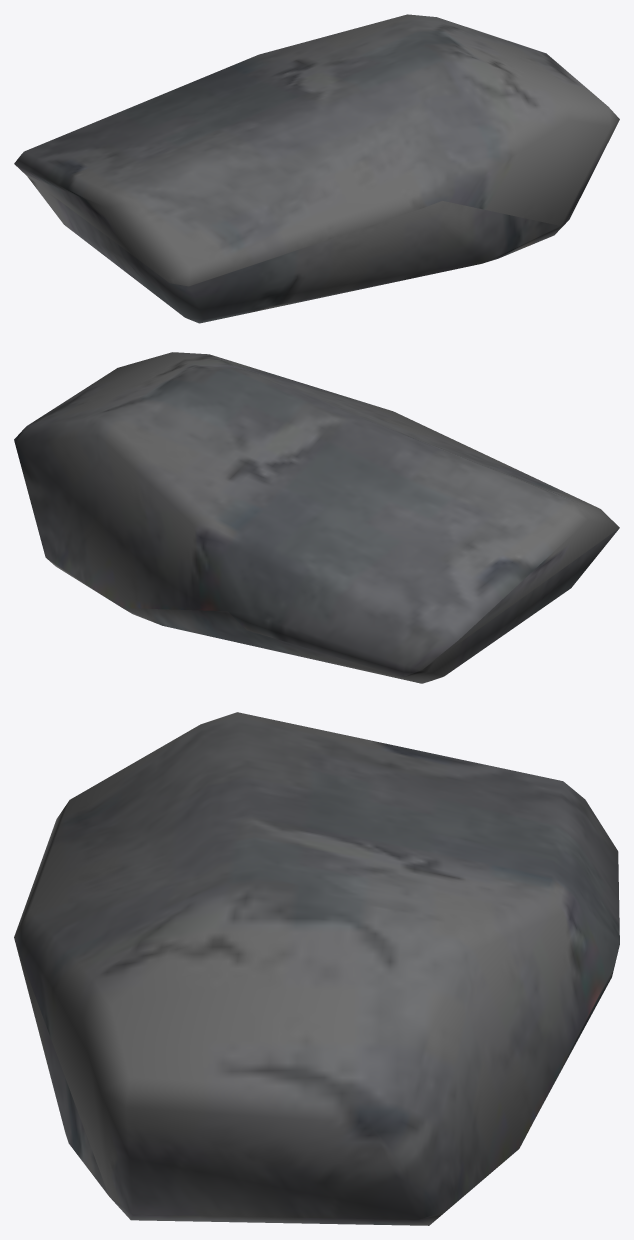
Rendered from Pedra2.fbx.
3 views of the same model, one above another, from view 1: azimuth 30°, elevation 25°; view 2: azimuth 150°, elevation 25°; view 3: azimuth 270°, elevation 25° (orthographic). The views are drawn at different scales.
Visible parts, largest first — view 1: Pedra2; view 2: Pedra2; view 3: Pedra2.
Part boxes in pixels (left/top/right/bottom): Pedra2: left=14, top=14, right=619, bottom=323; Pedra2: left=14, top=352, right=619, bottom=683; Pedra2: left=14, top=712, right=619, bottom=1225.
Size of the model in its own units: 134 by 45.05 by 88.43.
